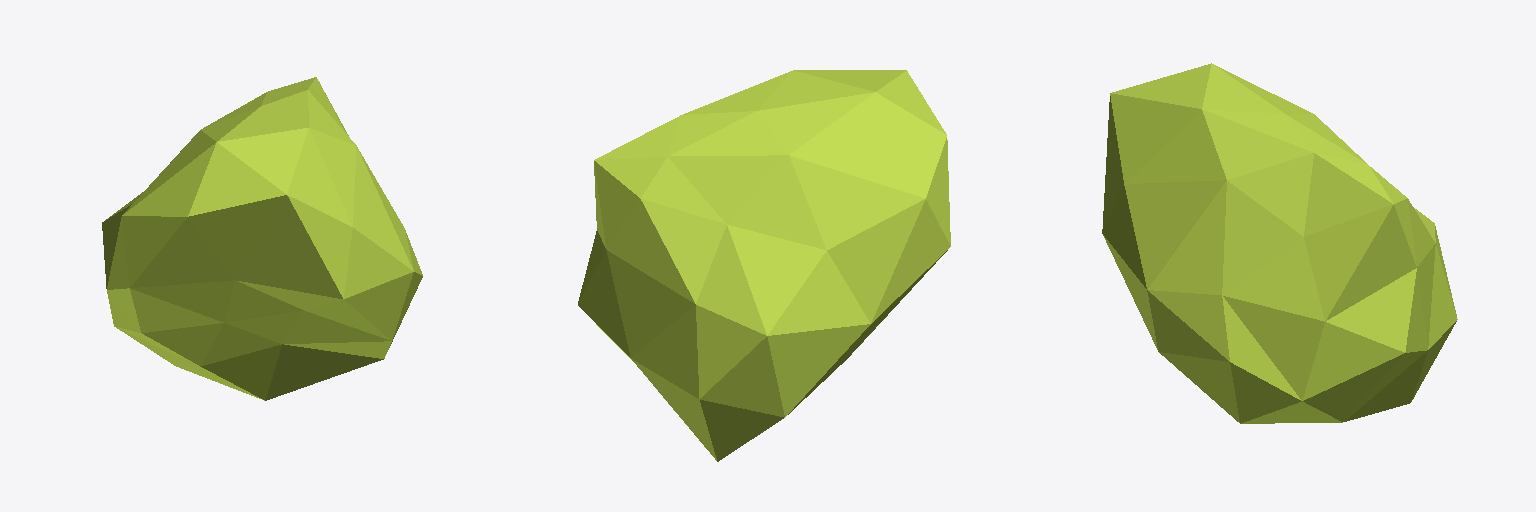
File: Rock5.obj
3 renders of one model, left to right at view 1: azimuth 30°, elevation 25°; view 2: azimuth 150°, elevation 25°; view 3: azimuth 270°, elevation 25°, orthographic.
Parts seen in each view (by area): view 1: GeoSphere001; view 2: GeoSphere001; view 3: GeoSphere001.
Boxes of the visible parts, <box> form: GeoSphere001: <box>102,77,422,400</box>; GeoSphere001: <box>578,70,950,461</box>; GeoSphere001: <box>1102,63,1457,423</box>.
Size of the model in its own units: 2.14 by 2.08 by 2.13.